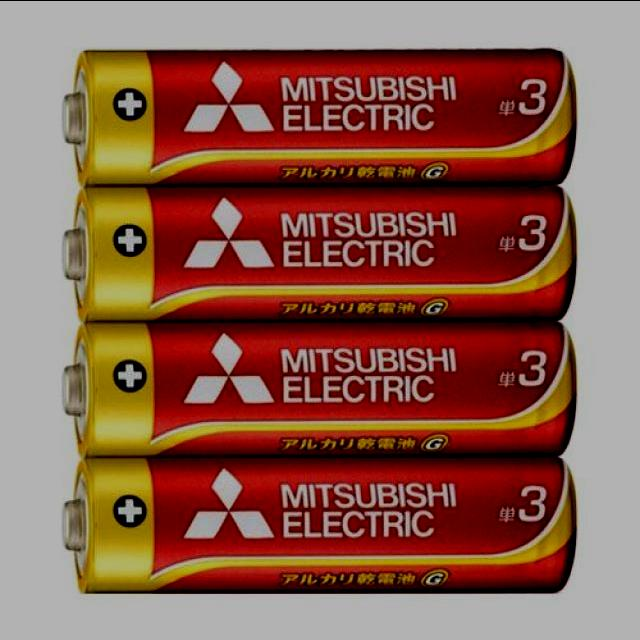AA: (55, 45, 575, 185), (57, 456, 577, 593), (56, 318, 577, 454), (55, 184, 576, 318)
